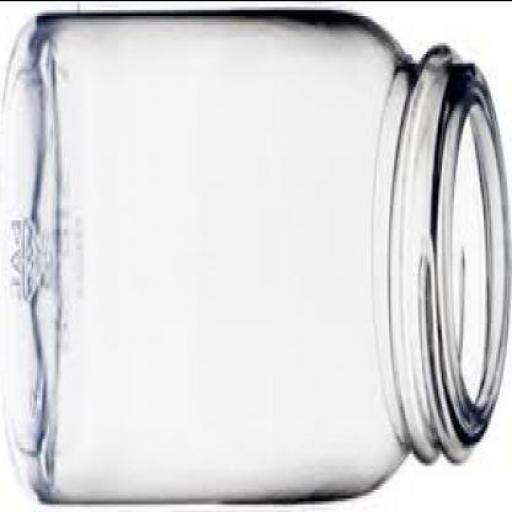glass: (6, 10, 511, 503)
